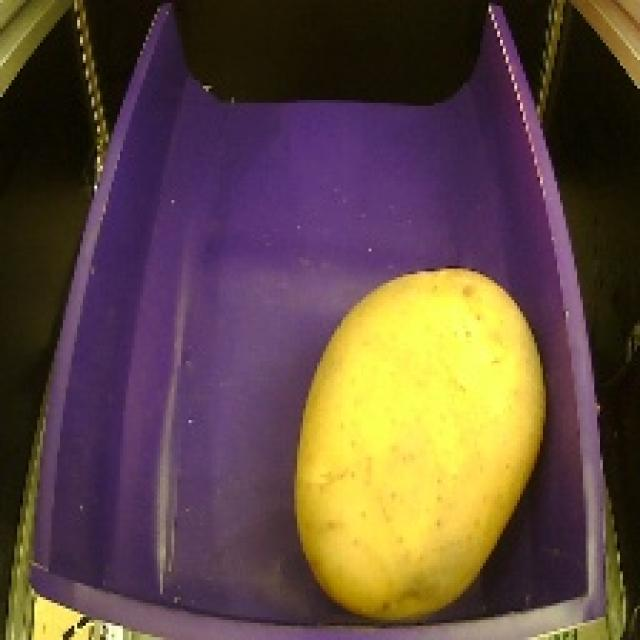full_potato: (278, 253, 559, 632)
